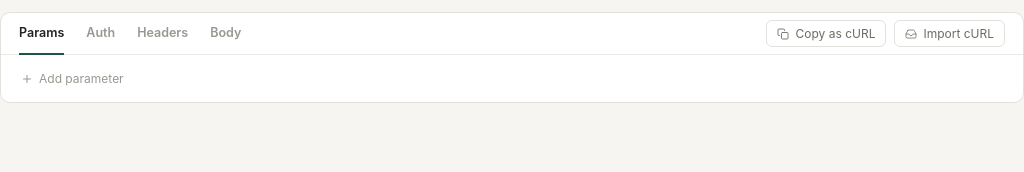
Test: RequestComposer — Copy as cURL › copies a built request as a curl command
What coordinates should you click on to do the following:
click the button "Copy as cURL"
I would click on:
 (826, 34)
Its box is top-left (766, 20), bottom-right (886, 47).
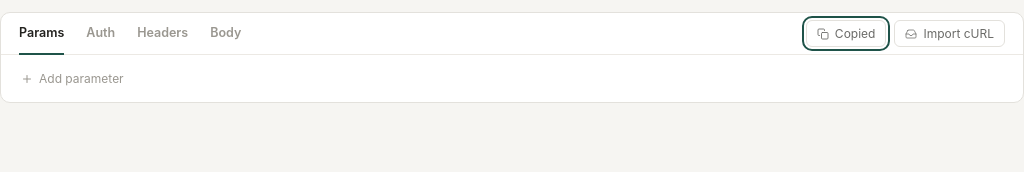
Expected: the text "Copied" is shown, top-left (835, 26), bottom-right (876, 41)
